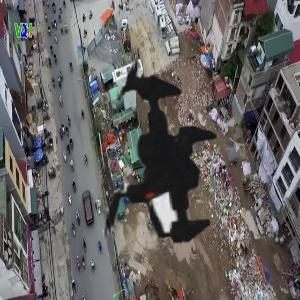drone: (9, 21, 288, 300)
